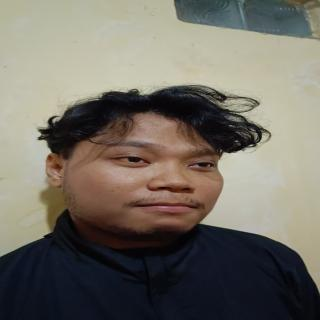Sedih: (68, 112, 231, 240)
